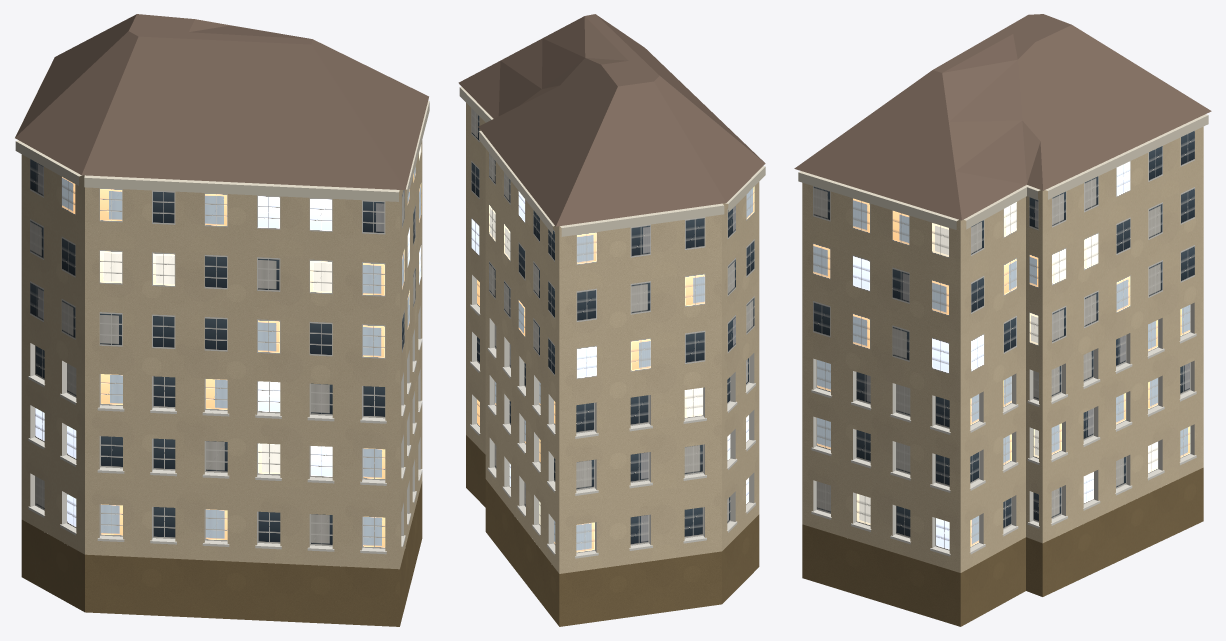
File: z3b_erna_corner.glb
3 views of the same model, side by side, from view 1: azimuth 30°, elevation 25°; view 2: azimuth 150°, elevation 25°; view 3: azimuth 270°, elevation 25° (orthographic). The views are drawn at different scales.
Parts seen in each view (by area): view 1: z3b_erna_corner; view 2: z3b_erna_corner; view 3: z3b_erna_corner.
Part boxes in pixels (box(x1,y1,x2,y2)): z3b_erna_corner: box(14, 14, 429, 626); z3b_erna_corner: box(458, 14, 765, 626); z3b_erna_corner: box(794, 14, 1211, 626).
Size of the model in its own units: 19.25 by 27.85 by 21.11.
Materials: 3 (3 with a texture image).
